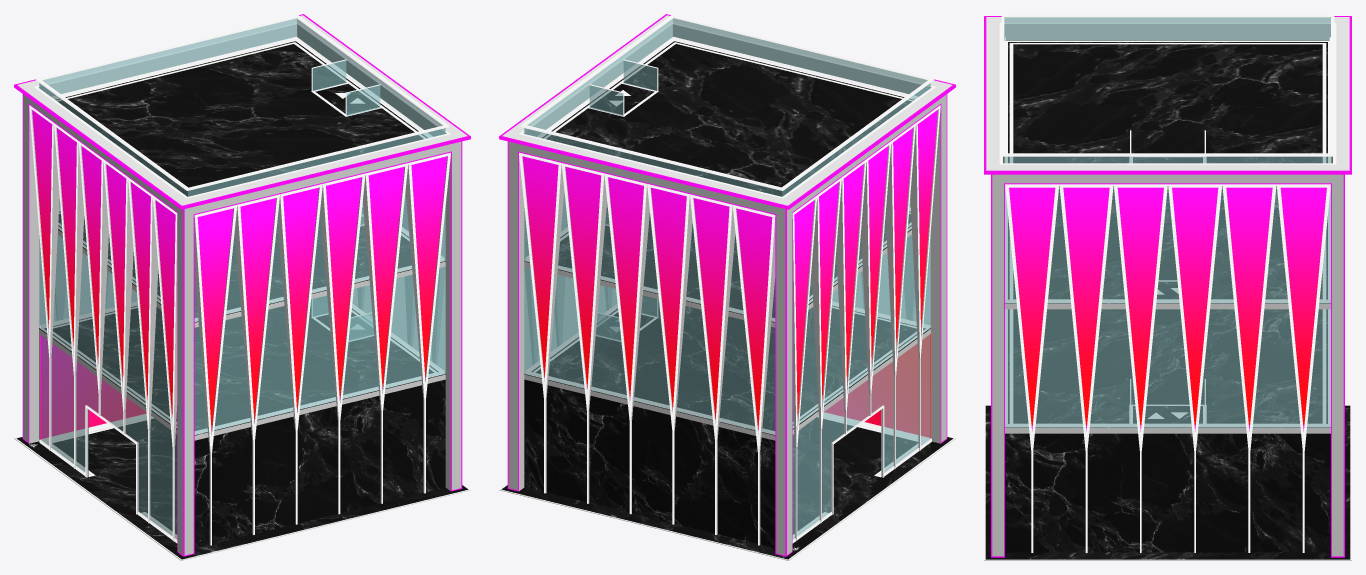
File: Dhingia Builds 01 Pink 1x1.glb
3 renders of one model, left to right at view 1: azimuth 30°, elevation 25°; view 2: azimuth 150°, elevation 25°; view 3: azimuth 270°, elevation 25°, orthographic. The views are drawn at different scales.
Parts seen in each view (by area): view 1: Mirror#2, Mesh_35, Mesh_7, Mirror, Mesh_37, Mesh_1, Mirror#1, Triangle.002, Triangle.003, Triangle.005, Triangle.001, Triangle.004 (+15 smaller); view 2: Mirror#2, Mesh_35, Mesh_7, Mirror, Mesh_37, Mesh_1, Mirror#1, Triangle.008, Triangle.009, Triangle.010, Triangle.007, Triangle.011 (+15 smaller); view 3: Mesh_7, Mirror#2, Mesh_35, Mesh_37, Mirror, Mirror#1, Mirror.001, Mesh_39, Triangle.012, Triangle.014, Triangle.016, Triangle.021 (+5 smaller).
Part boxes in pixels (box(x1,y1,x2,y2)): Mirror#2: box(39, 334, 445, 548); Mesh_35: box(14, 14, 470, 556); Mesh_7: box(55, 40, 429, 196); Mirror: box(39, 234, 445, 434); Mesh_37: box(39, 296, 445, 440); Mesh_1: box(14, 416, 470, 560); Mirror#1: box(39, 18, 445, 196); Triangle.002: box(277, 184, 322, 524); Triangle.003: box(320, 173, 365, 514); Triangle.005: box(405, 152, 450, 493); Triangle.001: box(234, 194, 279, 534); Triangle.004: box(363, 163, 408, 503); Mirror#2: box(524, 334, 930, 547); Mesh_35: box(499, 14, 955, 556); Mesh_7: box(540, 40, 915, 196); Mirror: box(524, 234, 930, 434); Mesh_37: box(524, 296, 930, 440); Mesh_1: box(499, 415, 955, 560); Mirror#1: box(524, 18, 930, 196); Triangle.008: box(647, 184, 692, 524); Triangle.009: box(604, 173, 649, 514); Triangle.010: box(519, 152, 564, 493); Triangle.007: box(690, 194, 735, 534); Triangle.011: box(561, 163, 606, 503); Mesh_7: box(1003, 40, 1332, 163); Mirror#2: box(1005, 433, 1330, 552); Mesh_35: box(984, 16, 1351, 557); Mesh_37: box(1005, 309, 1330, 433); Mirror: box(1005, 309, 1330, 427); Mirror#1: box(1004, 17, 1331, 163); Mirror.001: box(1005, 186, 1330, 303); Mesh_39: box(1005, 186, 1330, 309); Triangle.012: box(1005, 184, 1059, 552); Triangle.014: box(1222, 184, 1276, 552); Triangle.016: box(1059, 184, 1113, 552); Triangle.021: box(1276, 184, 1330, 552).
Size of what is drawn, in the model's own units: 16 by 19.16 by 16.
Materials: 7 (2 with a texture image).
